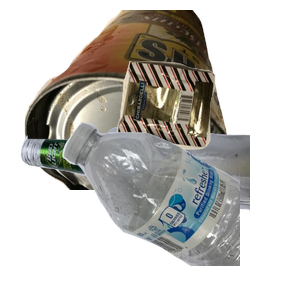glass: (18, 124, 258, 300)
metal: (22, 10, 251, 190)
plastic: (60, 120, 300, 300)
trash: (115, 58, 300, 200)
